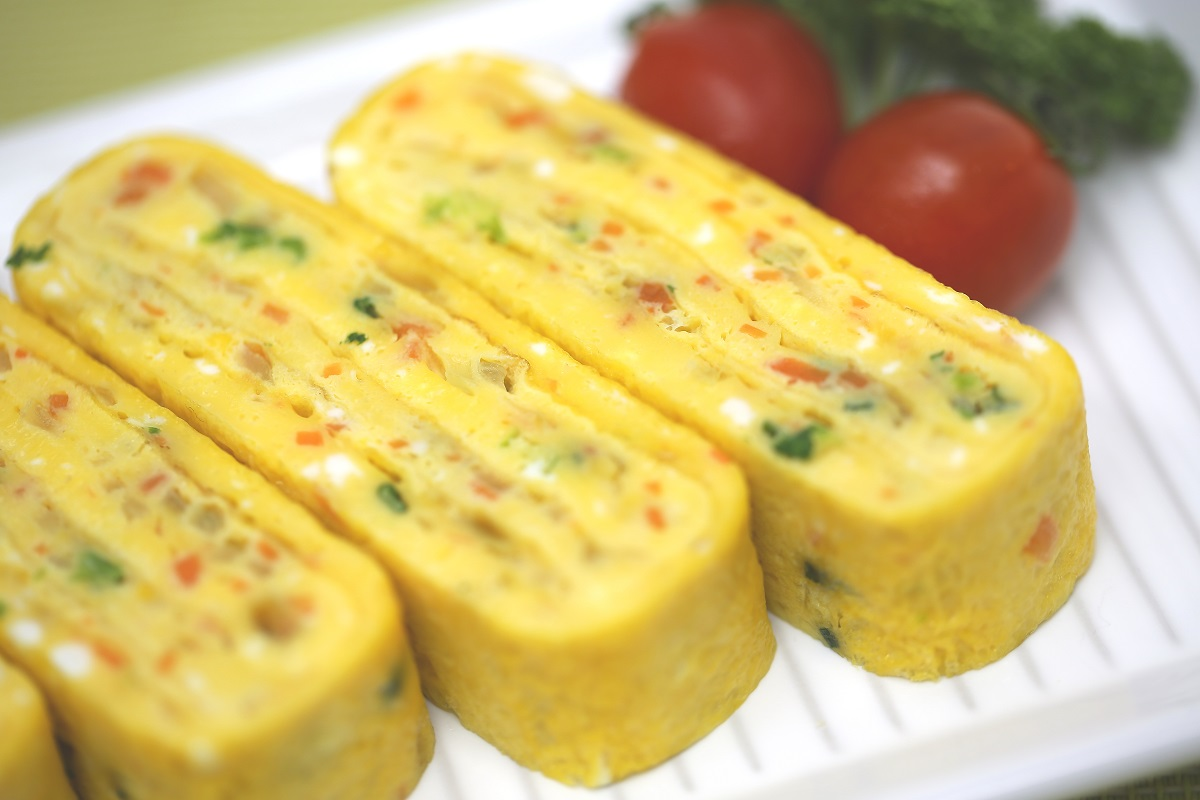gyelanmal-i: (3, 43, 1112, 788)
